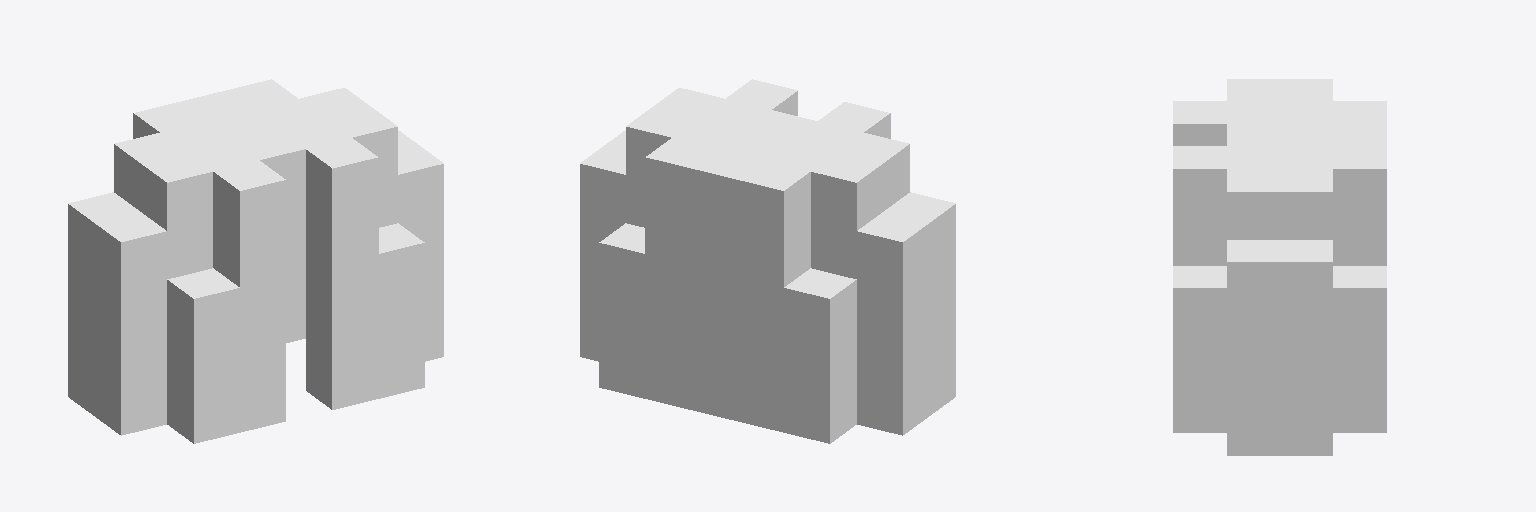
Rendered from SH_Soldier-12-Spine_01.obj.
The picture shows the model from 3 angles: view 1: azimuth 30°, elevation 25°; view 2: azimuth 150°, elevation 25°; view 3: azimuth 270°, elevation 25°; orthographic projection.
Visible parts, largest first — view 1: Spine_01; view 2: Spine_01; view 3: Spine_01.
Part boxes in pixels (x1,y1,x2,y2): Spine_01: (68, 79, 443, 443); Spine_01: (580, 79, 955, 443); Spine_01: (1173, 79, 1386, 455).
Bounding box in the file's own units: 0.7 × 0.5 × 0.4.